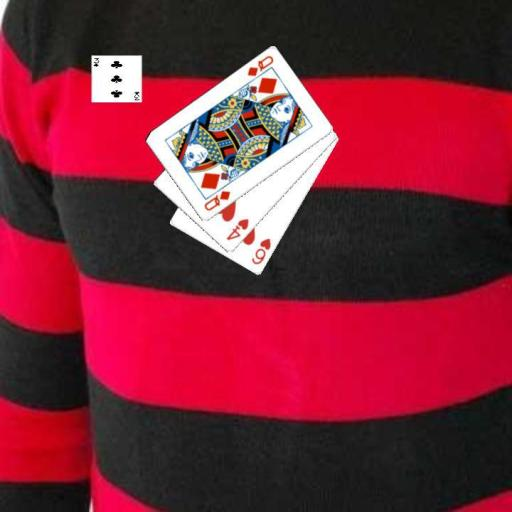4H: (224, 216, 251, 243)
6H: (249, 235, 273, 266)
QD: (200, 188, 232, 213), (244, 53, 275, 78)
